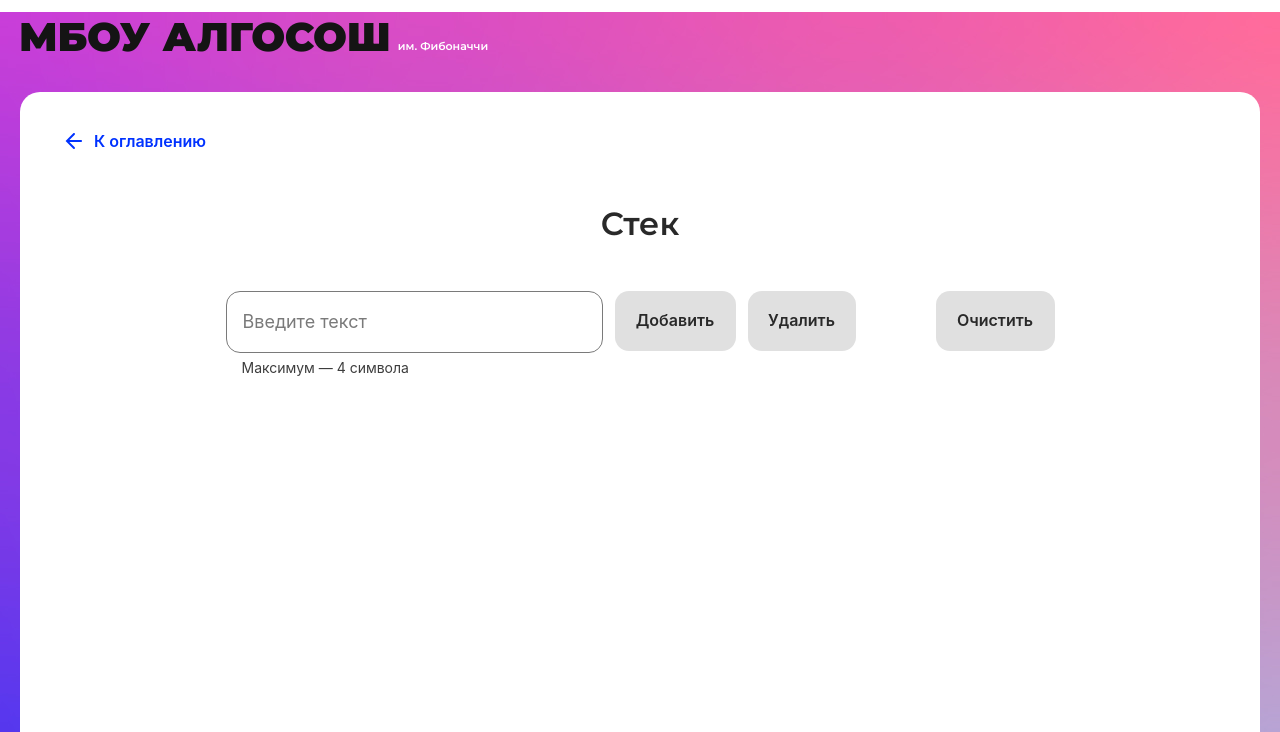
stack page display correctly › should elements add to stack correctly
This screenshot has width=1280, height=732.
Type "1" into the field with placeholder "Введите текст" at [415, 322], box [226, 291, 603, 353]
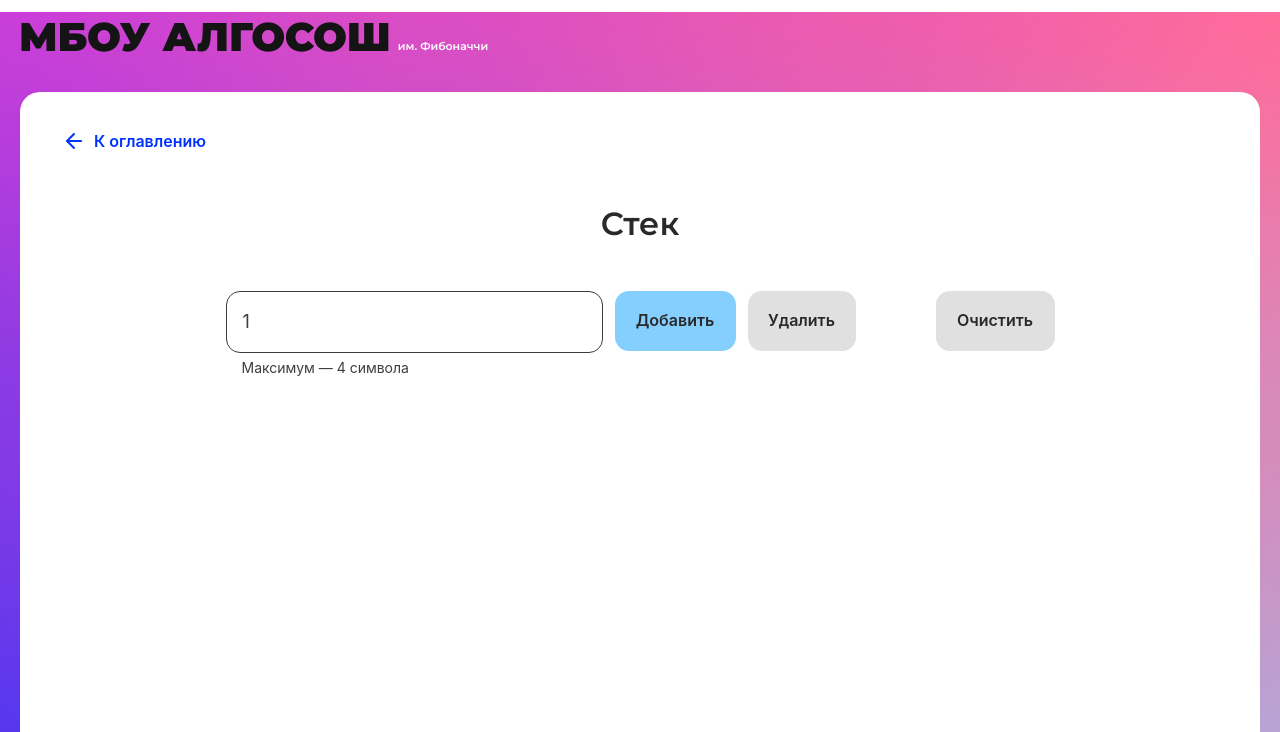
Click the button with test id "addBtn" at [676, 321], box [615, 291, 736, 351]
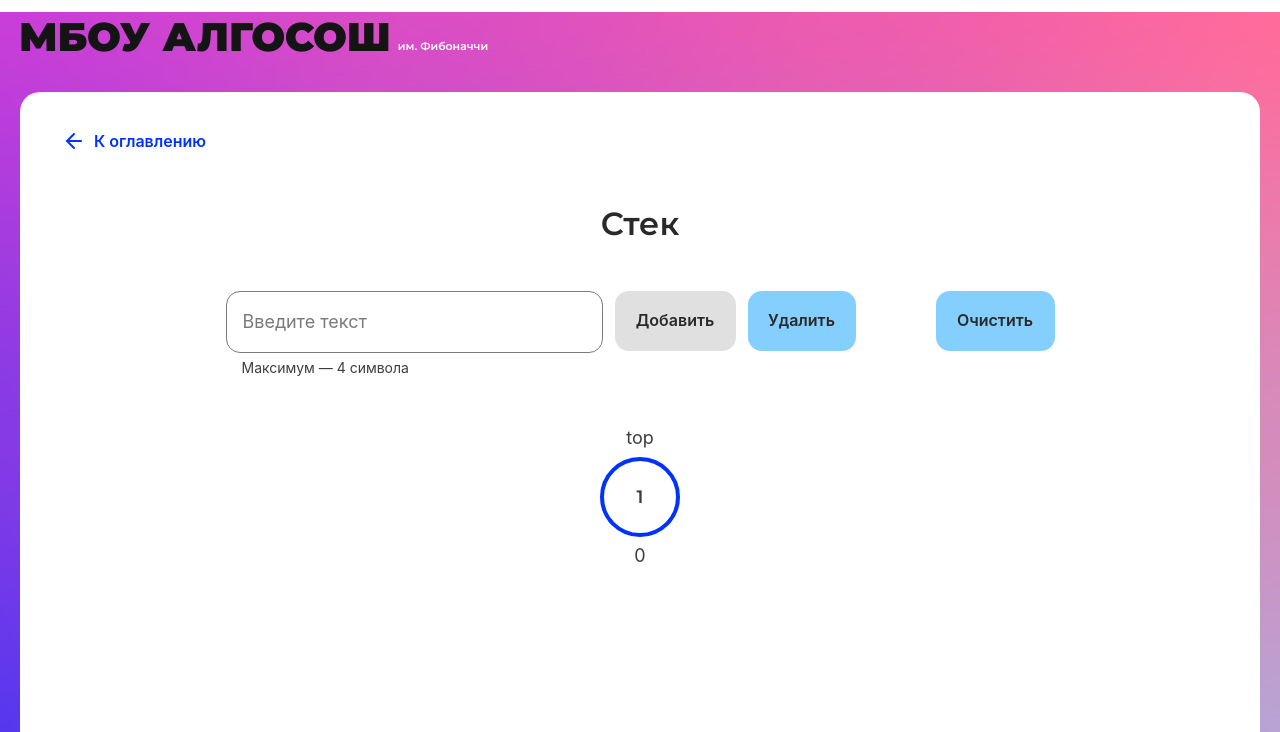
Now the number of elements with test id "circle" is 1, box [600, 457, 680, 537]
Now the text with test id "circle" reads "1", box [637, 486, 644, 508]
Now the text with test id "head" reads "top", box [626, 427, 654, 448]
Type "2" into the field with placeholder "Введите текст" at [415, 322], box [226, 291, 603, 353]
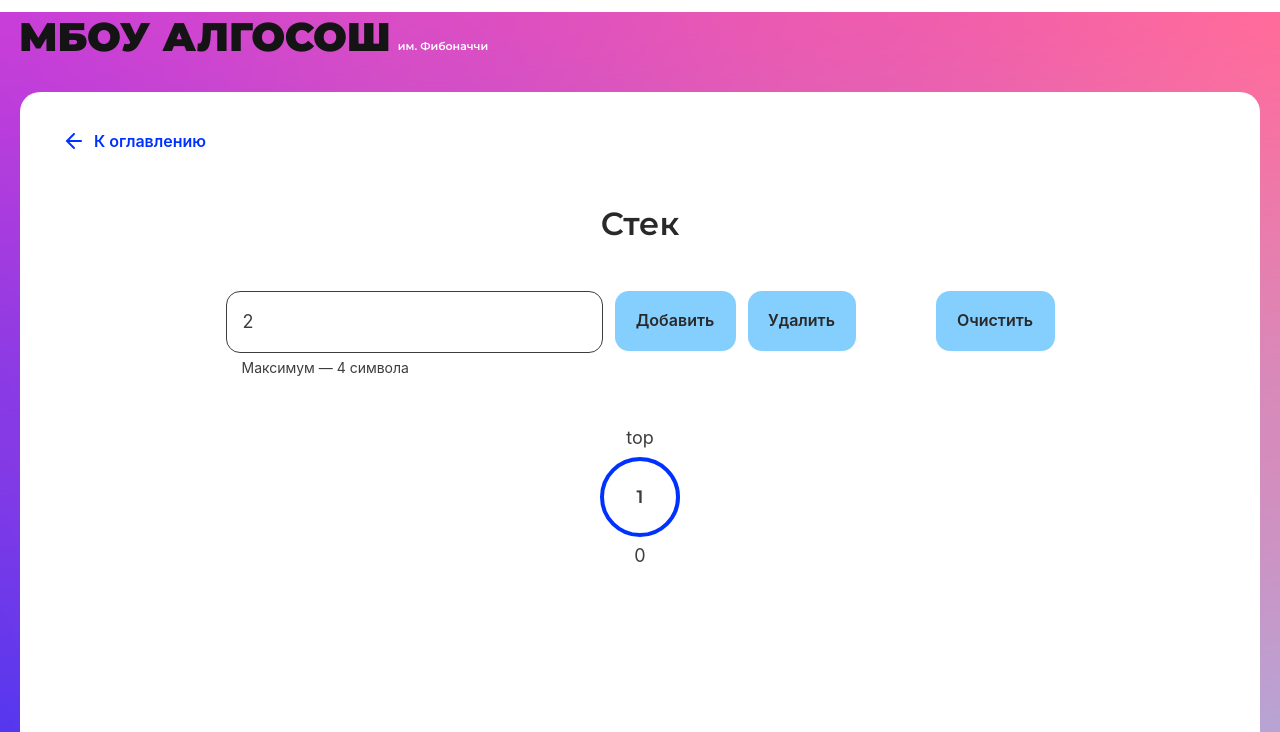
Click the button with test id "addBtn" at [676, 321], box [615, 291, 736, 351]
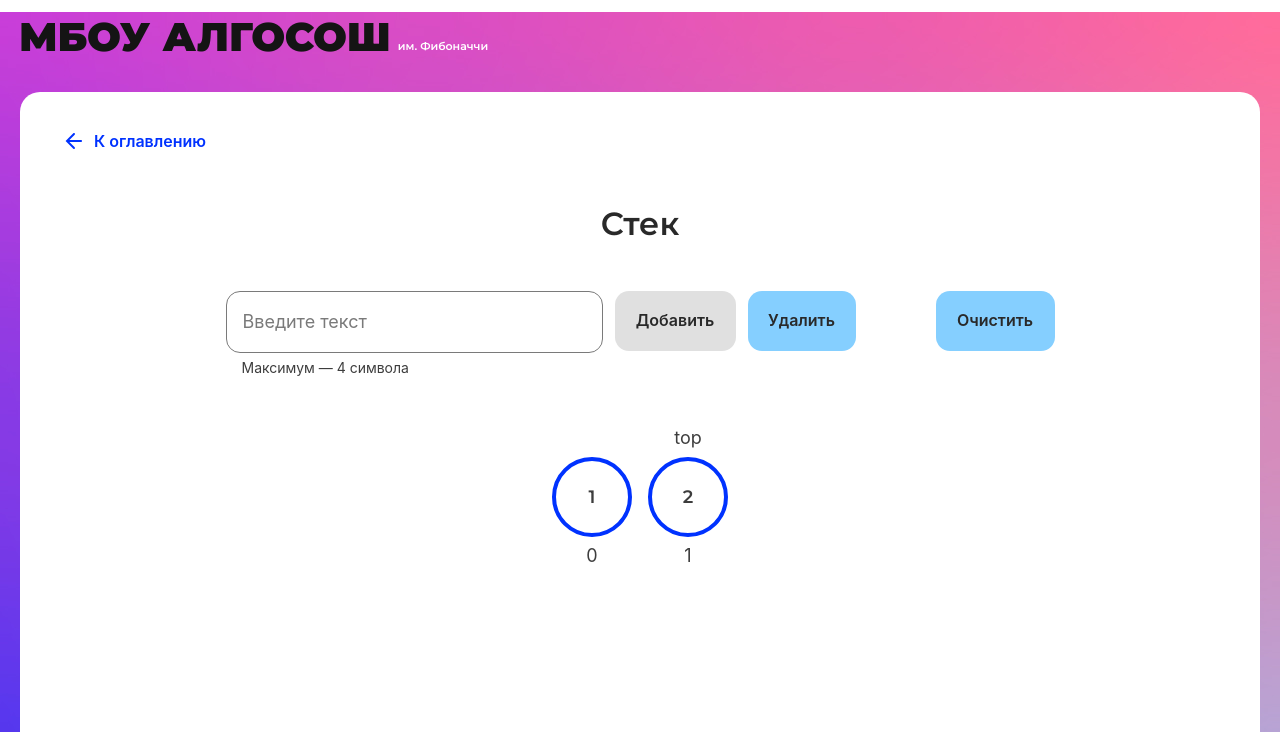
Now the text with test id "index" reads "0", box [586, 545, 597, 566]
Now the number of elements with test id "circle" is 2, box [552, 457, 632, 537]; [648, 457, 728, 537]
Now the text with test id "index" below "top" reads "1", box [684, 545, 691, 566]
Type "3" into the field with placeholder "Введите текст" at [415, 322], box [226, 291, 603, 353]
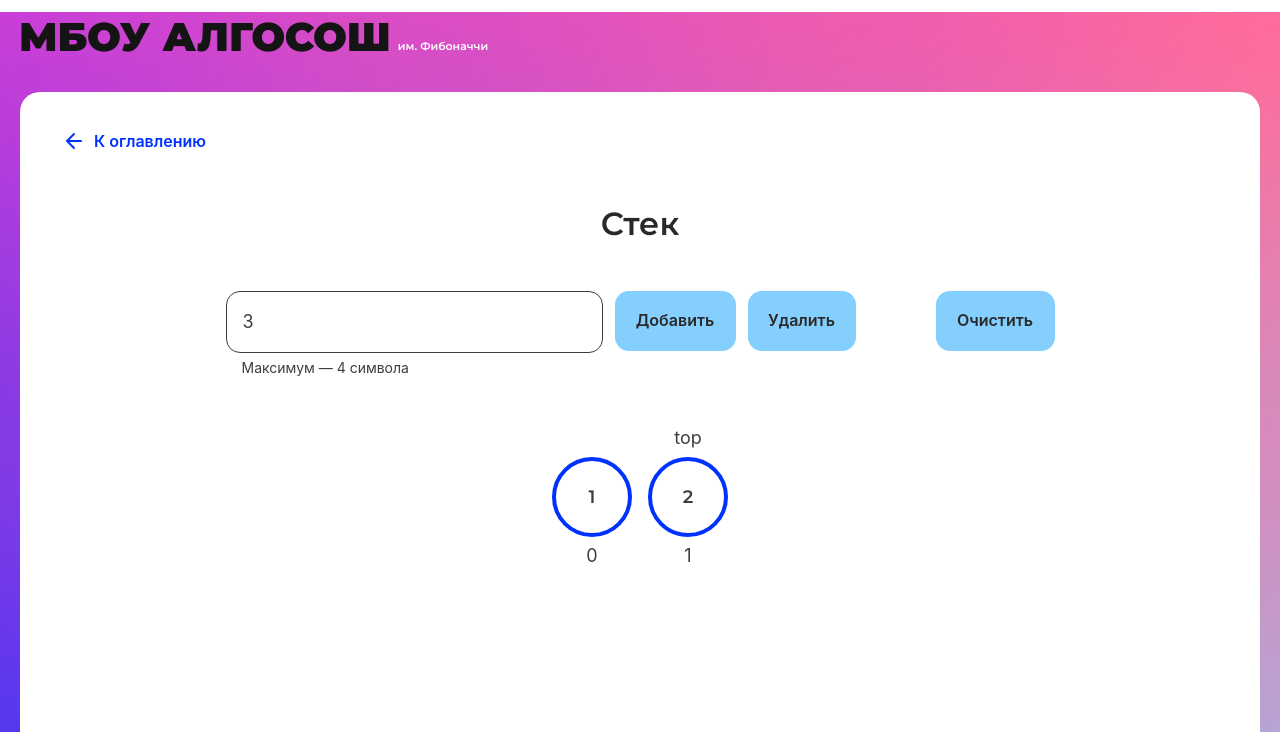
Click the button with test id "addBtn" at [676, 321], box [615, 291, 736, 351]
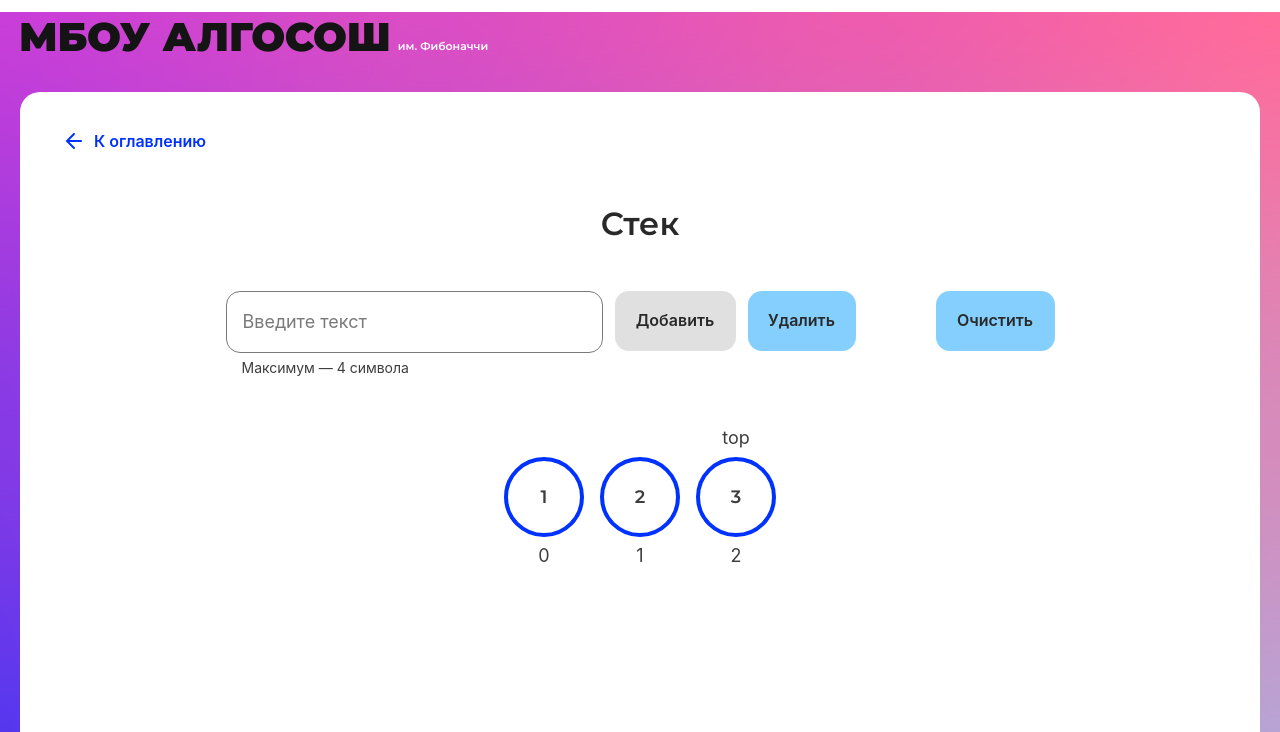
Now the text with test id "index" reads "0", box [538, 545, 549, 566]
Now the 2nd text with test id "index" reads "1", box [636, 545, 643, 566]
Now the number of elements with test id "circle" is 3, box [504, 457, 584, 537]; [600, 457, 680, 537]; [696, 457, 776, 537]
